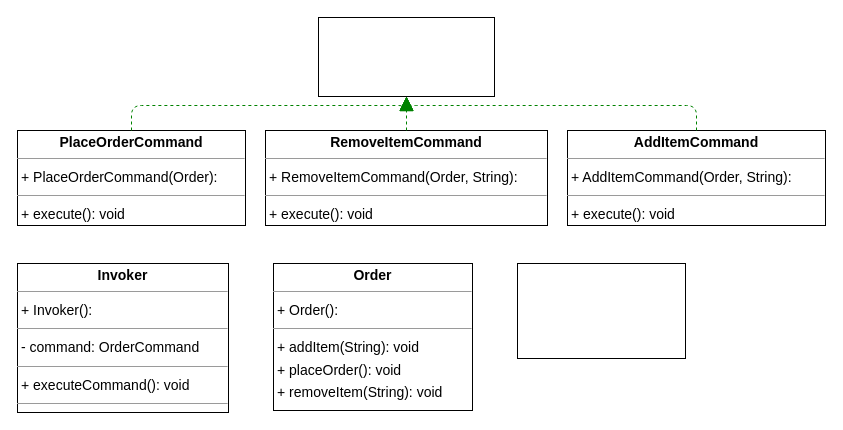
Some shapes in this 843 by 430 pixel diagram are drawn without their labels. The box of each missing label's shape, as (x1, y1, x2, y2) in pixels:
<<interface>> OrderCommand + execute(): void: (318, 16, 494, 96)
Main + Main(): + main(String[]): void: (516, 262, 686, 358)
